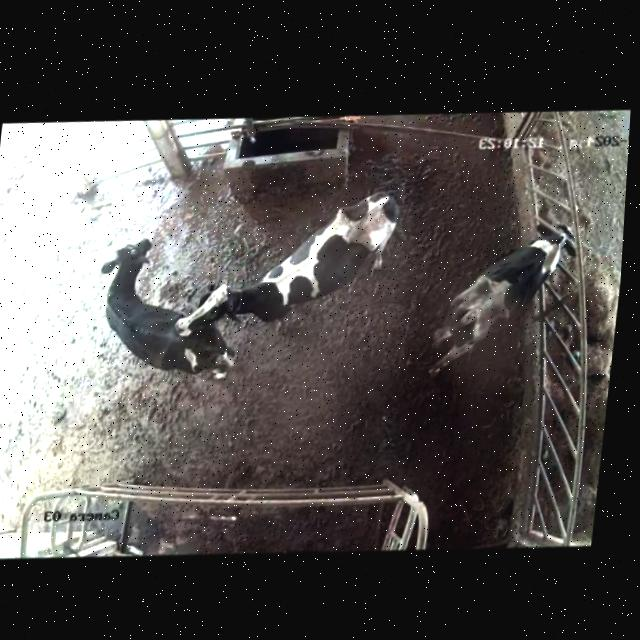eat: (500, 200, 625, 284)
propping: (144, 256, 274, 373)
stand: (71, 190, 236, 410)
